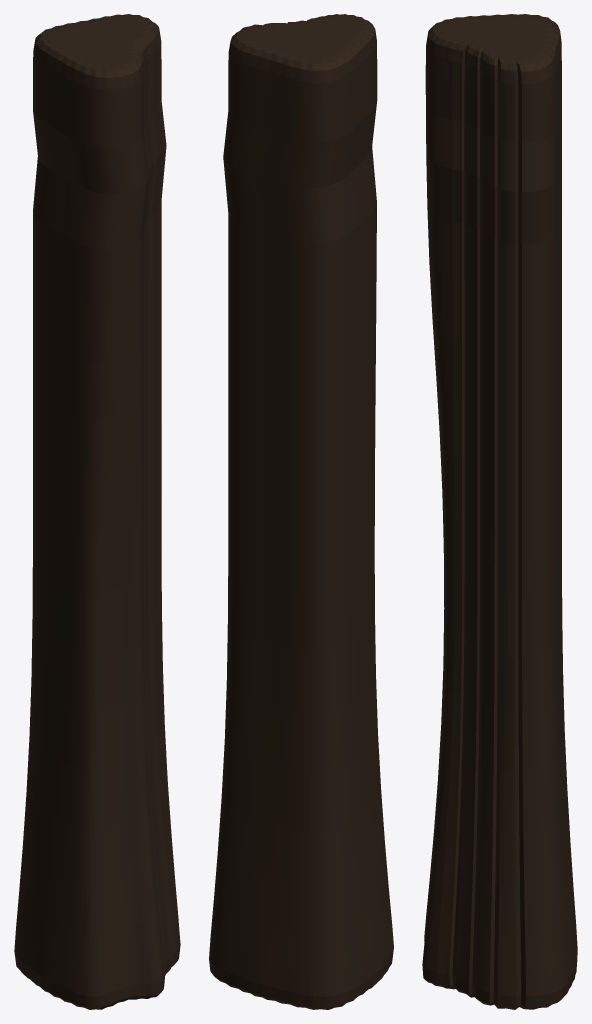
The model's file is Batang.fbx.
3 renders of one model, left to right at view 1: azimuth 30°, elevation 25°; view 2: azimuth 150°, elevation 25°; view 3: azimuth 270°, elevation 25°, orthographic.
Visible parts, largest first — view 1: Cylinder; view 2: Cylinder; view 3: Cylinder.
Part boxes in pixels (box(x1,y1,x2,y2)): Cylinder: box(14, 14, 180, 1009); Cylinder: box(209, 14, 393, 1009); Cylinder: box(422, 14, 577, 1009).
Size of the model in its own units: 80.53 by 498 by 74.59.
